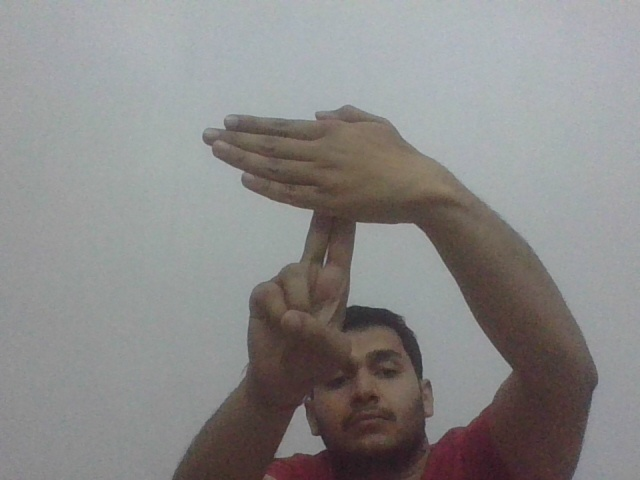N: (197, 103, 408, 269)
